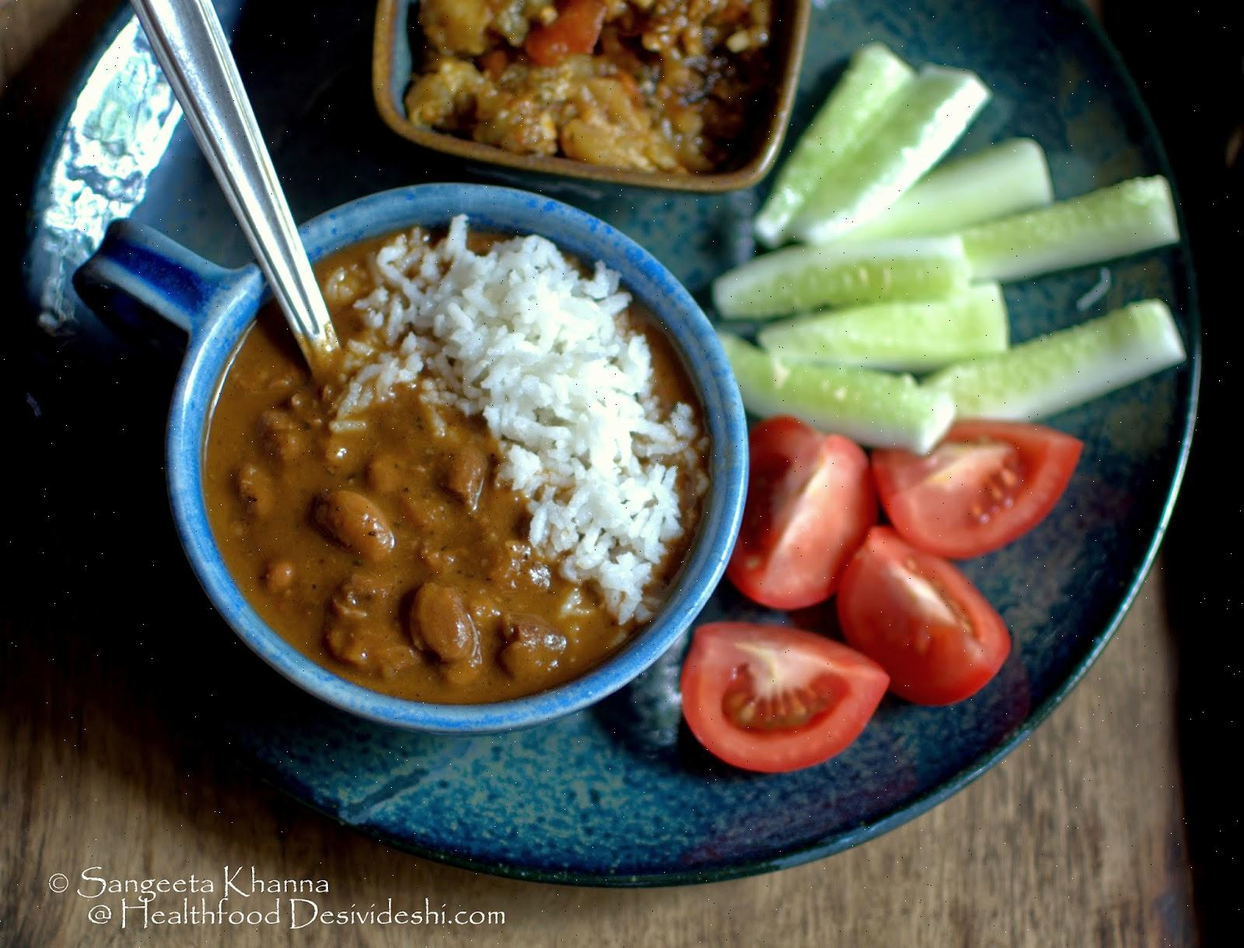rajma: (228, 360, 467, 702)
rice: (472, 249, 674, 541)
